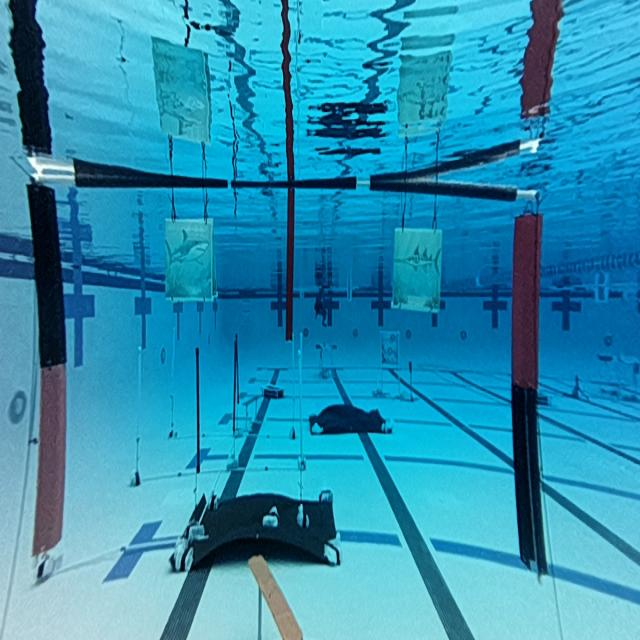pointed_nose: (391, 229, 443, 311)
round_nose: (161, 216, 217, 308)
